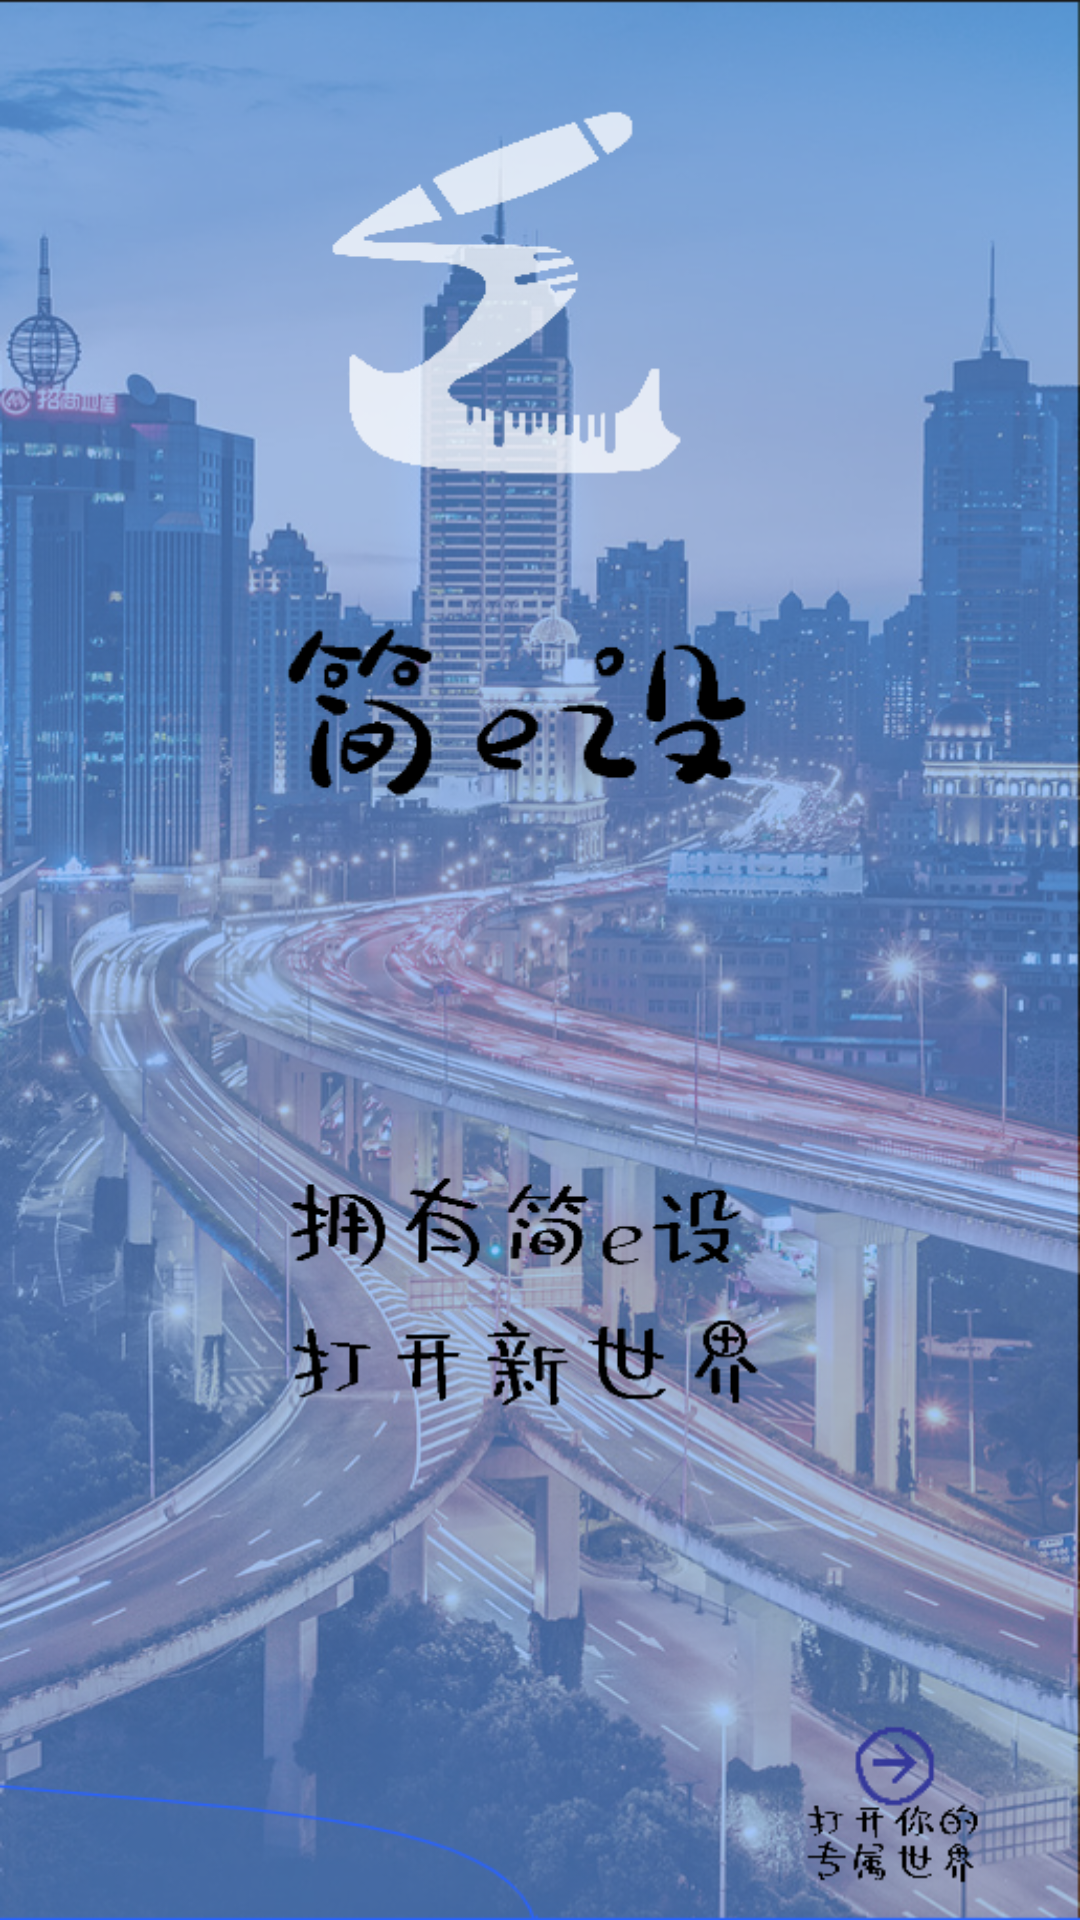

Icon click points for this 1080 x 1920 phone screenshot, format point (x, y):
next: point (896, 1765)
